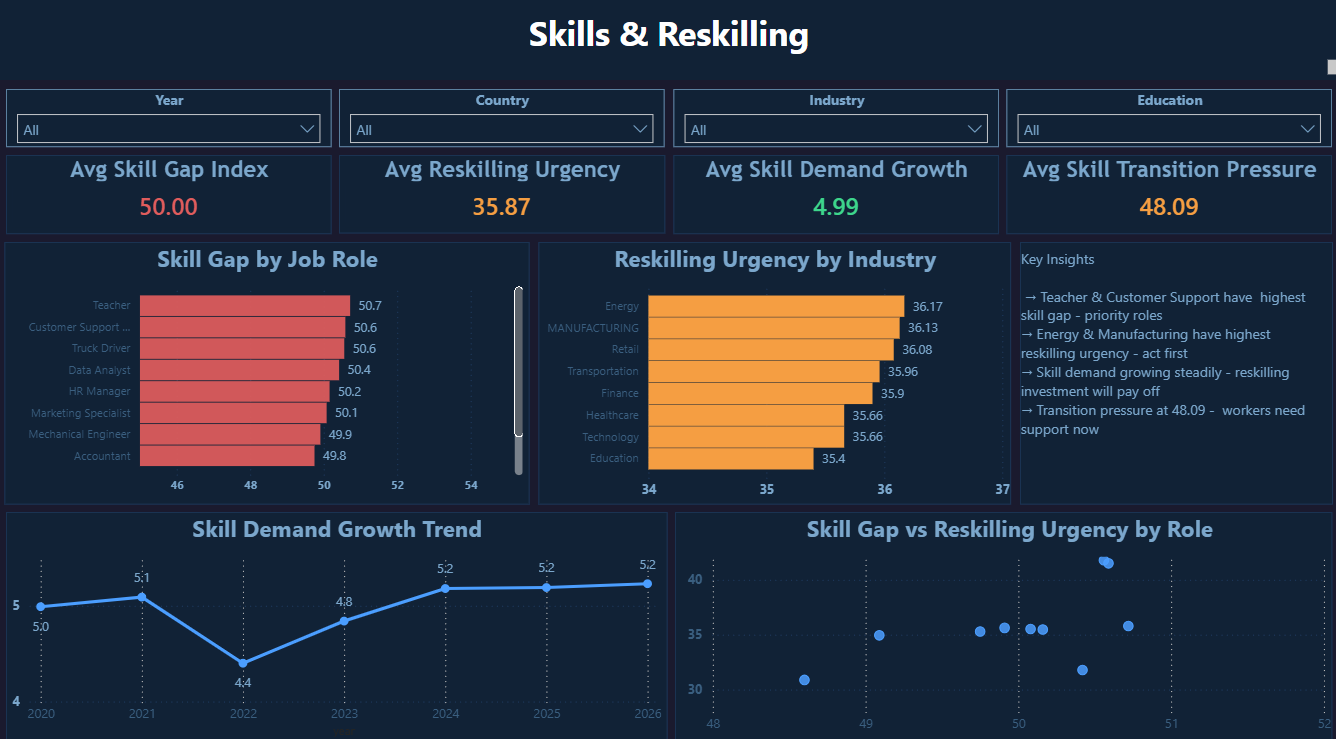

This screenshot's page, from the dashboard's own definition file:
{"tool":"powerbi","page":{"name":"Skills & Reskilling","canvas":[1280,720],"ordinal":3},"visuals":[{"type":"shape","box":[0,0,1280,143.3],"z":0,"group":"g1"},{"type":"cardVisual","title":"Avg Skill Gap Index","fields":{"Data":["Measures Table.Avg Skill Gap Index"]},"box":[0,272.9,332.9,87.1],"z":0},{"type":"textbox","box":[300,0,681.7,138.6],"z":1000,"group":"g1"},{"type":"lineChart","title":"Skill Demand Growth Trend","fields":{"Category":["ai_jobs_dirty.year"],"Y":["Measures Table.Avg Skill Demand"]},"box":[452.9,587.1,434.3,132.9],"z":1000},{"type":"cardVisual","title":"Avg Reskilling Urgency","fields":{"Data":["Measures Table.Avg Reskilling Urgency"]},"box":[348.6,272.9,282.9,87.1],"z":2000},{"type":"donutChart","title":"Education Level Distribution","fields":{"Category":["ai_jobs_dirty.education_label"],"Y":["Measures Table.Total Jobs"]},"box":[900,531.4,380,188.6],"z":3000},{"type":"cardVisual","title":"Avg Skill Demand Growth","fields":{"Data":["Measures Table.Avg Skill Demand"]},"box":[647.1,272.9,332.9,87.1],"z":4000},{"type":"clusteredBarChart","title":"Skill Gap by Job Role","fields":{"Category":["ai_jobs_dirty.job_role"],"Y":["Measures Table.Avg Skill Gap Index"]},"box":[0,378.6,438.6,341.4],"z":5000},{"type":"barChart","title":"Reskilling Urgency by Industry","fields":{"Category":["ai_jobs_dirty.industry"],"Y":["Measures Table.Avg Reskilling Urgency"]},"box":[900,378.6,380,142.9],"z":6000},{"type":"cardVisual","title":"Avg Skill Transition Pressure","fields":{"Data":["Measures Table.Avg Transition"]},"box":[997.1,272.9,282.9,87.1],"z":7000},{"type":"group","id":"g1","title":"Group 2","box":[0,0,1280,143.3],"z":8000},{"type":"slicer","title":"Year","fields":{"Values":["ai_jobs_dirty.year"]},"box":[0,148.3,333.3,106.7],"z":9000},{"type":"slicer","title":"Country","fields":{"Values":["ai_jobs_dirty.country"]},"box":[348.3,150,283.3,105],"z":10000},{"type":"slicer","title":"Industry","fields":{"Values":["ai_jobs_dirty.industry"]},"box":[648.3,148.3,331.7,106.7],"z":11000},{"type":"slicer","title":"Education","fields":{"Values":["ai_jobs_dirty.education_label"]},"box":[996.7,148.3,283.3,106.7],"z":12000},{"type":"clusteredBarChart","title":"Top 5 Roles Needing Reskilling","fields":{"Category":["ai_jobs_dirty.job_role"],"Y":["Measures Table.Avg Reskilling Urgency"]},"box":[452.9,378.6,434.3,197.1],"z":12001}]}

Visuals, with their boxes in screenshot pixels (x1, y1, x2, y2), scaled from the page's 1280x720 canvas onto the 1336x739 screenshot:
shape: [0, 0, 1335, 147]
"Avg Skill Gap Index" cardVisual: [0, 280, 347, 369]
textbox: [313, 0, 1025, 142]
"Skill Demand Growth Trend" lineChart: [473, 603, 926, 738]
"Avg Reskilling Urgency" cardVisual: [364, 280, 659, 369]
"Education Level Distribution" donutChart: [939, 545, 1335, 738]
"Avg Skill Demand Growth" cardVisual: [675, 280, 1023, 369]
"Skill Gap by Job Role" clusteredBarChart: [0, 389, 458, 738]
"Reskilling Urgency by Industry" barChart: [939, 389, 1335, 535]
"Avg Skill Transition Pressure" cardVisual: [1041, 280, 1335, 369]
"Group 2" group: [0, 0, 1335, 147]
"Year" slicer: [0, 152, 348, 262]
"Country" slicer: [364, 154, 659, 262]
"Industry" slicer: [677, 152, 1023, 262]
"Education" slicer: [1040, 152, 1335, 262]
"Top 5 Roles Needing Reskilling" clusteredBarChart: [473, 389, 926, 591]
